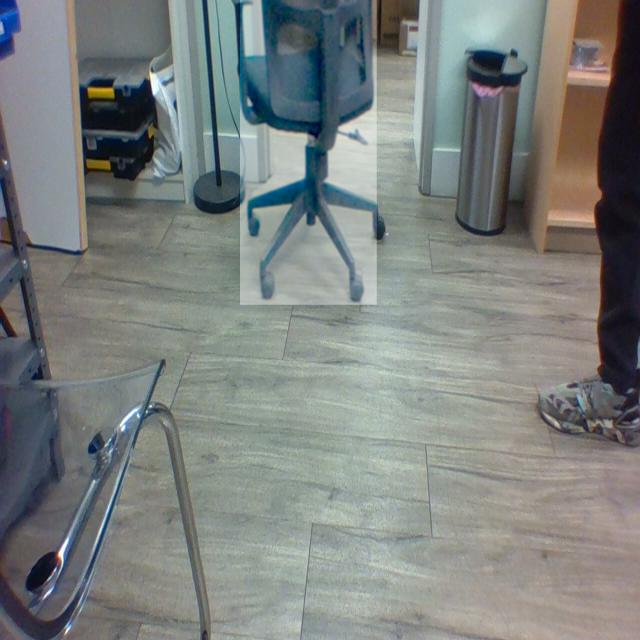black-chair: (240, 0, 378, 306)
